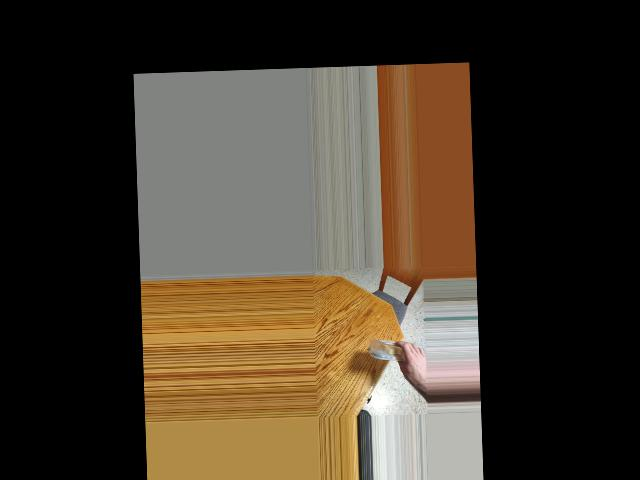cheese: (368, 329, 416, 379)
